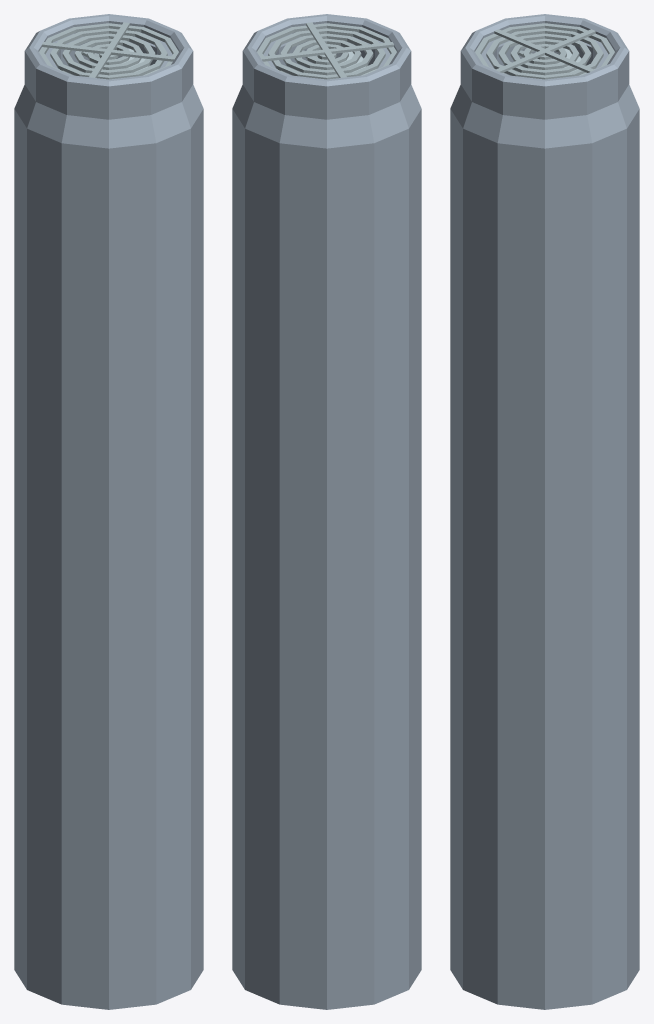
File: AirOutlet.fbx
3 views of the same model, side by side, from view 1: azimuth 30°, elevation 25°; view 2: azimuth 150°, elevation 25°; view 3: azimuth 270°, elevation 25° (orthographic).
Visible parts, largest first — view 1: 柱体.059, 柱体.061; view 2: 柱体.059, 柱体.061; view 3: 柱体.059, 柱体.061.
Part boxes in pixels (box(x1,y1,x2,y2)): 柱体.059: box(14, 14, 203, 1009); 柱体.061: box(39, 22, 178, 79); 柱体.059: box(232, 14, 421, 1009); 柱体.061: box(257, 22, 396, 79); 柱体.059: box(450, 14, 639, 1009); 柱体.061: box(475, 23, 614, 79).
Bounding box in the file's own units: 290 × 290 × 1557.
